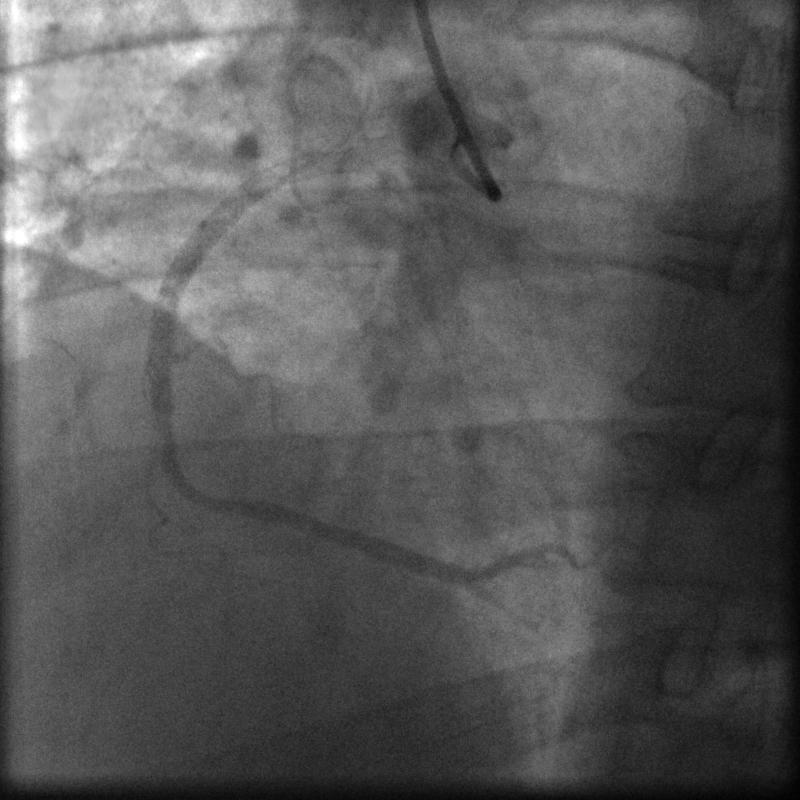Stenosis: (145, 406, 183, 481)
